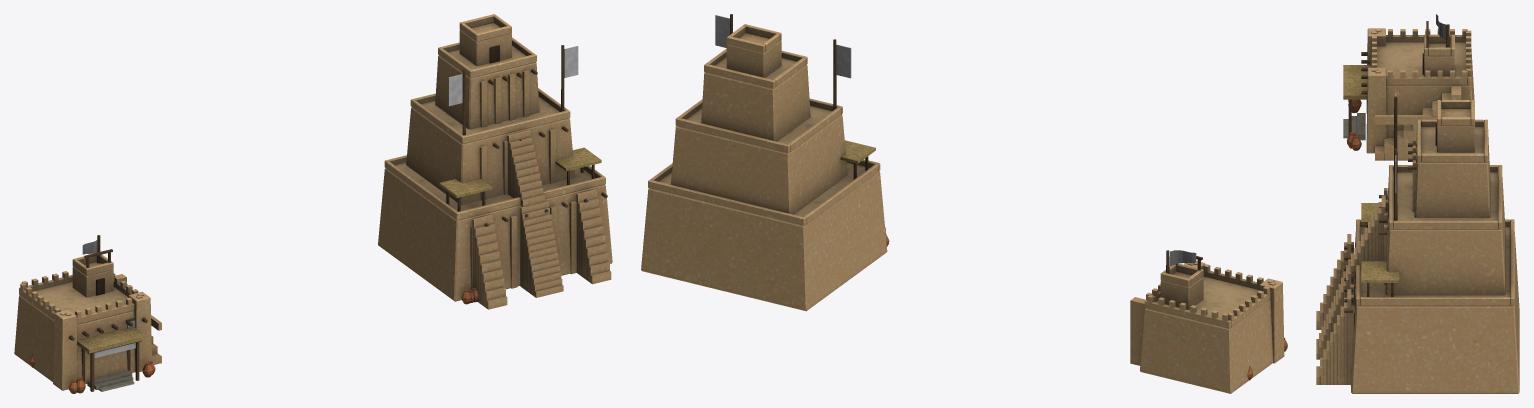
Rendered from shared-bronze.glb.
3 views of the same model, side by side, from view 1: azimuth 30°, elevation 25°; view 2: azimuth 150°, elevation 25°; view 3: azimuth 270°, elevation 25° (orthographic). The views are drawn at different scales.
Parts seen in each view (by area): view 1: LOD0.001, LOD0; view 2: LOD0.001, LOD0; view 3: LOD0.001, LOD0.
Boxes of the visible parts, left/top/right/bottom form: LOD0.001: left=378, top=14, right=612, bottom=309; LOD0: left=14, top=235, right=161, bottom=393; LOD0.001: left=641, top=14, right=889, bottom=311; LOD0: left=1130, top=250, right=1287, bottom=393; LOD0.001: left=1316, top=93, right=1519, bottom=393; LOD0: left=1343, top=14, right=1474, bottom=160.
Size of what is drawn, in the model's own units: 3.98 by 1.56 by 1.18.
2 materials, 2 textured.
